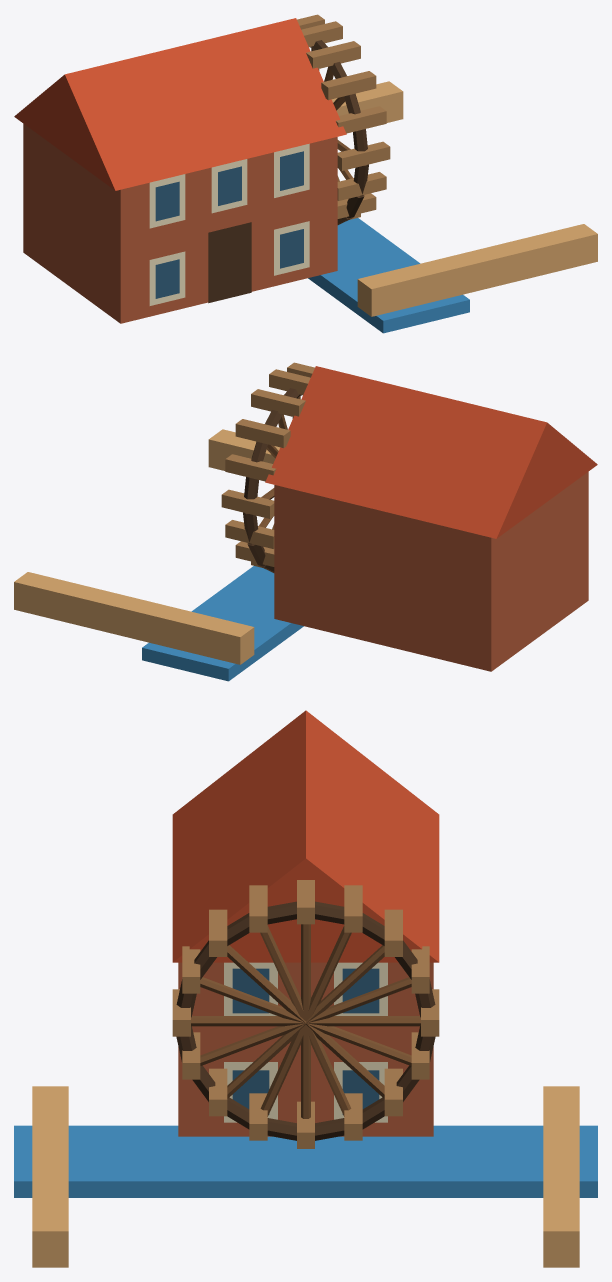
The model's file is building_palgum.fbx.
3 views of the same model, one above another, from view 1: azimuth 30°, elevation 25°; view 2: azimuth 150°, elevation 25°; view 3: azimuth 270°, elevation 25° (orthographic). The views are drawn at different scales.
Visible parts, largest first — view 1: building_palgum; view 2: building_palgum; view 3: building_palgum.
Part boxes in pixels (x1,y1,x2,y2): building_palgum: (14,14,597,333); building_palgum: (14,362,597,681); building_palgum: (14,710,597,1267).
Bounding box in the file's own units: 89 × 45.25 × 80.
